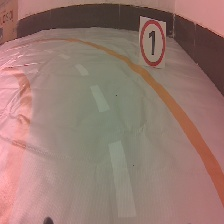limit: (137, 14, 168, 72)
